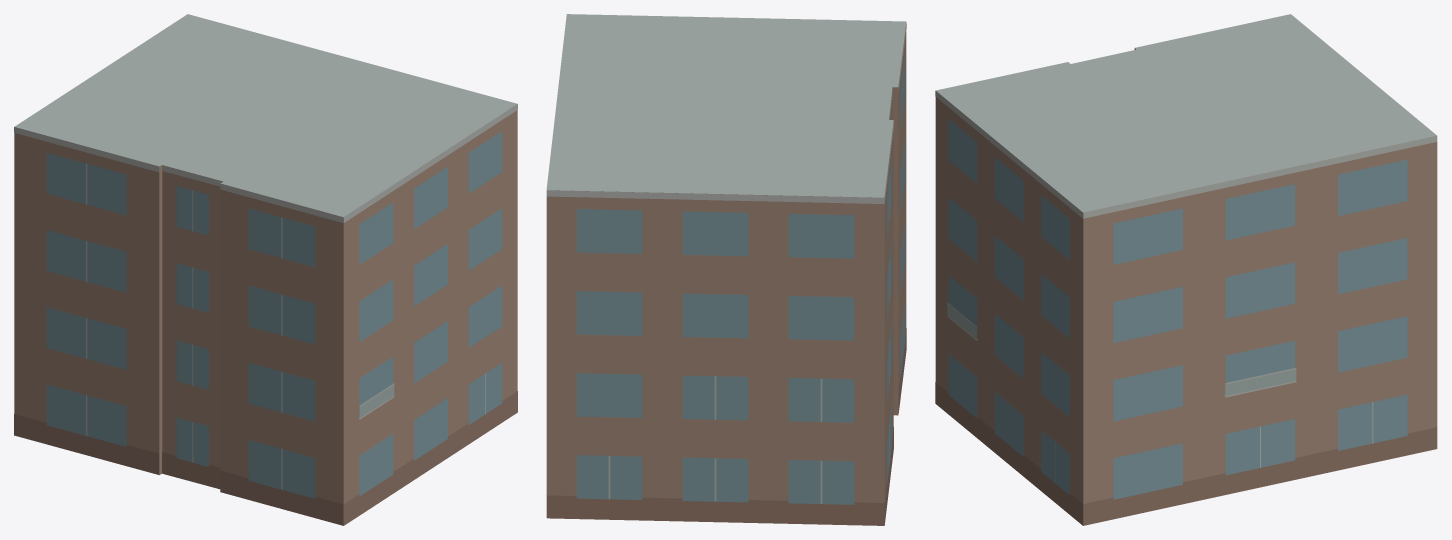
The model's file is survey-upis-32828253.glb.
3 views of the same model, side by side, from view 1: azimuth 30°, elevation 25°; view 2: azimuth 150°, elevation 25°; view 3: azimuth 270°, elevation 25° (orthographic). The views are drawn at different scales.
Parts seen in each view (by area): view 1: survey-upis-32828253.tmp; view 2: survey-upis-32828253.tmp; view 3: survey-upis-32828253.tmp.
Boxes of the visible parts, x1,y1,x2,y2 form: survey-upis-32828253.tmp: (14,14,517,525); survey-upis-32828253.tmp: (546,14,906,525); survey-upis-32828253.tmp: (935,14,1437,525).
Bounding box in the file's own units: 17.15 × 12.6 × 18.31.
